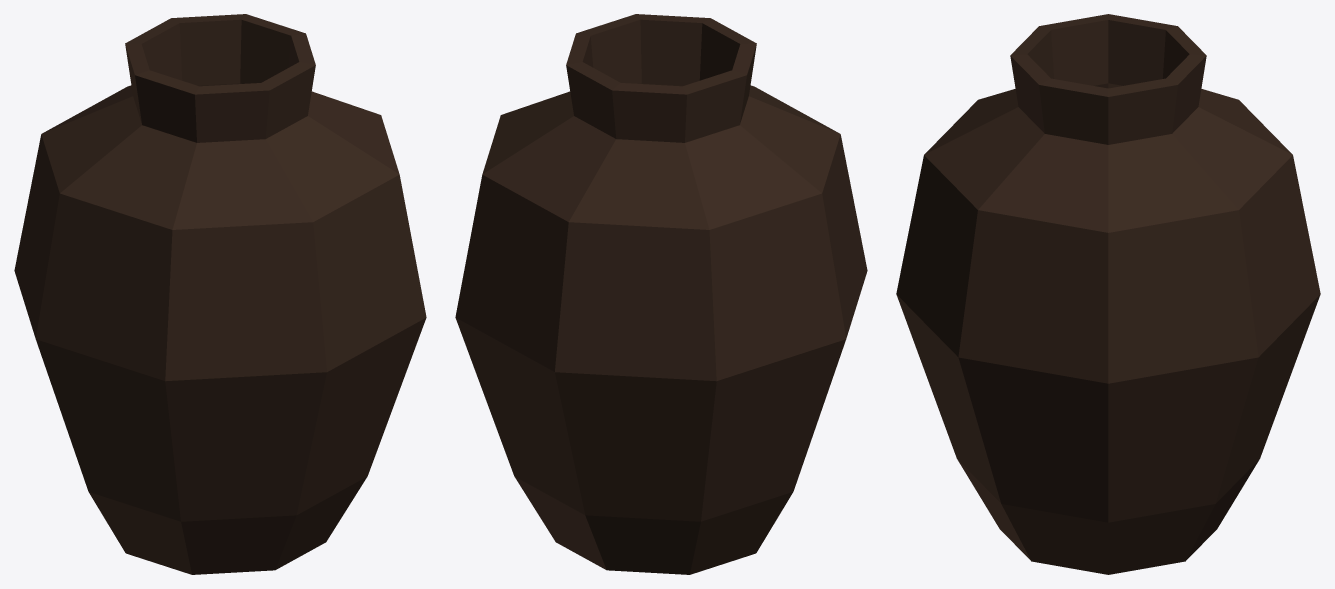
File: Pot_03.glb
3 views of the same model, side by side, from view 1: azimuth 30°, elevation 25°; view 2: azimuth 150°, elevation 25°; view 3: azimuth 270°, elevation 25° (orthographic).
Visible parts, largest first — view 1: Pot_03; view 2: Pot_03; view 3: Pot_03.
Boxes of the visible parts, left/top/right/bottom form: Pot_03: left=14, top=14, right=426, bottom=574; Pot_03: left=455, top=14, right=867, bottom=574; Pot_03: left=896, top=14, right=1320, bottom=574.
Size of the model in its own units: 0.4922 by 0.6075 by 0.4922.
1 material, 1 textured.
